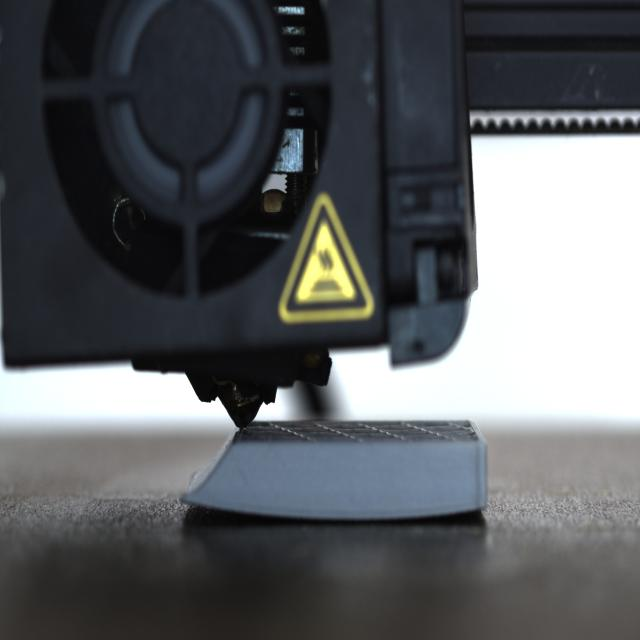Warping: (438, 495, 487, 527)
